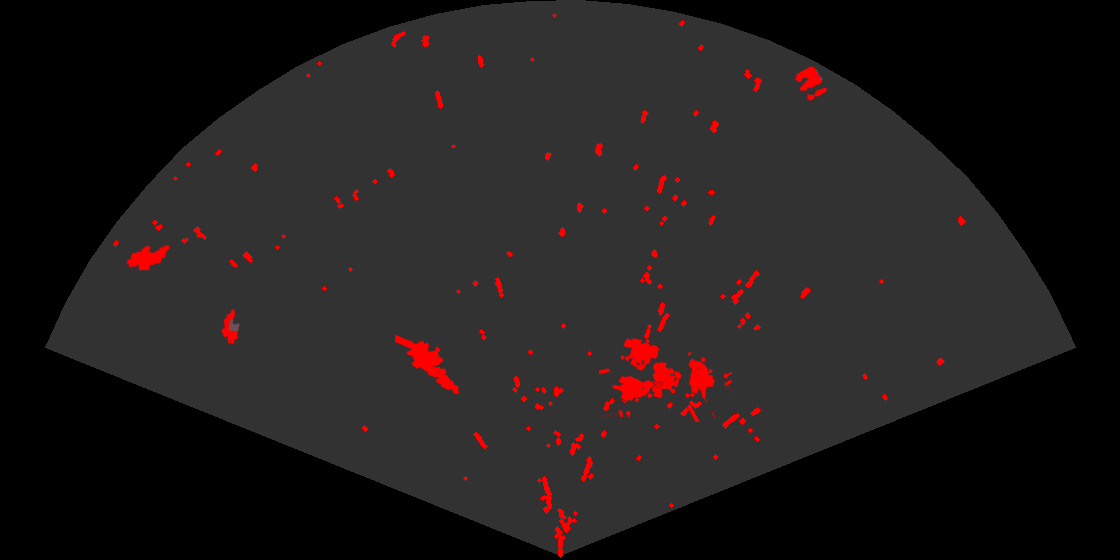AUV: (125, 243, 172, 272), (220, 307, 241, 346)
ball: (793, 65, 829, 102)
cage: (649, 350, 732, 422), (599, 336, 663, 417)
frogman: (395, 333, 461, 396)
